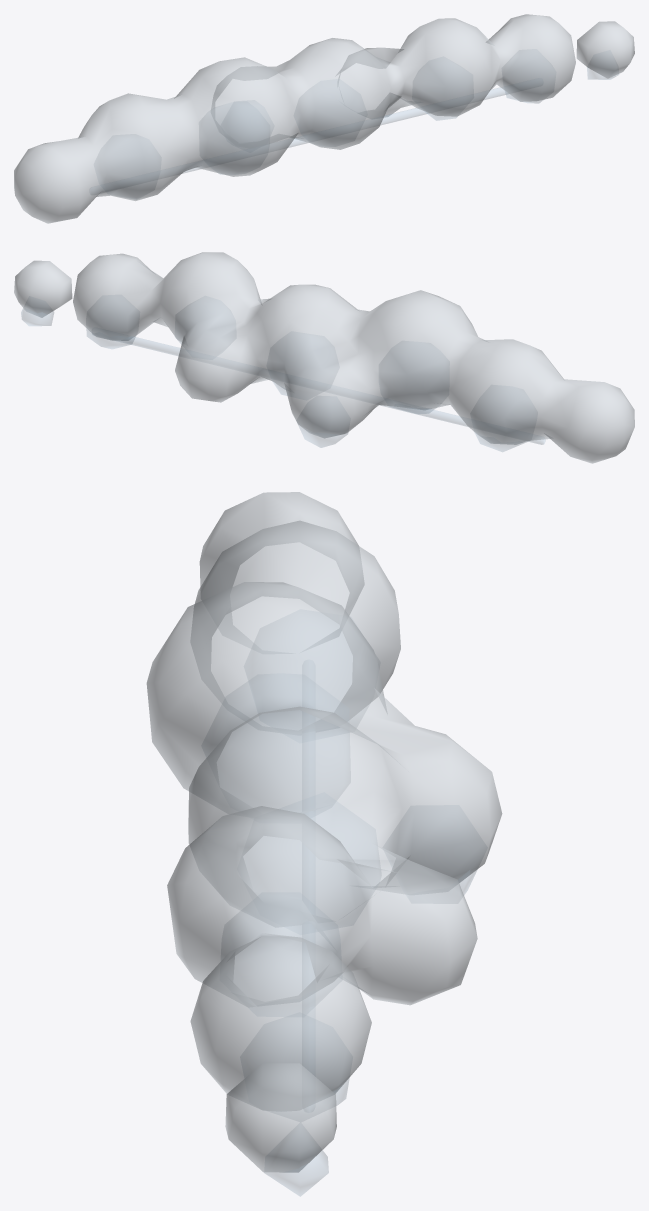
File: cloud_bank_a.glb
3 renders of one model, top to bottom at view 1: azimuth 30°, elevation 25°; view 2: azimuth 150°, elevation 25°; view 3: azimuth 270°, elevation 25°, orthographic. The views are drawn at different scales.
Visible parts, largest first — view 1: cloud_bank_a; view 2: cloud_bank_a; view 3: cloud_bank_a.
Part boxes in pixels (x1=…): cloud_bank_a: x1=14, y1=14, x2=634, y2=223; cloud_bank_a: x1=14, y1=252, x2=634, y2=463; cloud_bank_a: x1=146, y1=492, x2=502, y2=1196.
Size of the model in its own units: 9.18 by 1.81 by 2.31.
